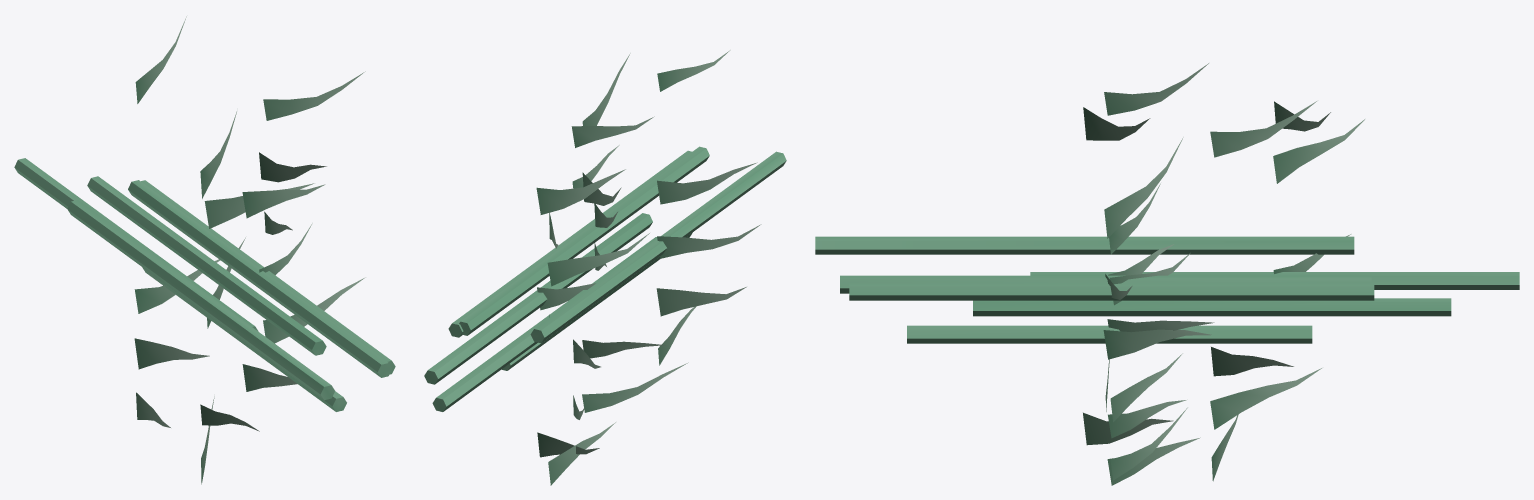
File: mesh-plant-050-crystal-stem_LOD1.glb
3 renders of one model, left to right at view 1: azimuth 30°, elevation 25°; view 2: azimuth 150°, elevation 25°; view 3: azimuth 270°, elevation 25°, orthographic. The views are drawn at different scales.
Visible parts, largest first — view 1: geometry_0; view 2: geometry_0; view 3: geometry_0.
Boxes of the visible parts, <box> form: geometry_0: <box>14,16,395,484</box>; geometry_0: <box>424,50,786,485</box>; geometry_0: <box>815,63,1519,485</box>.
Bounding box in the file's own units: 0.7169 × 1.07 × 1.56.
